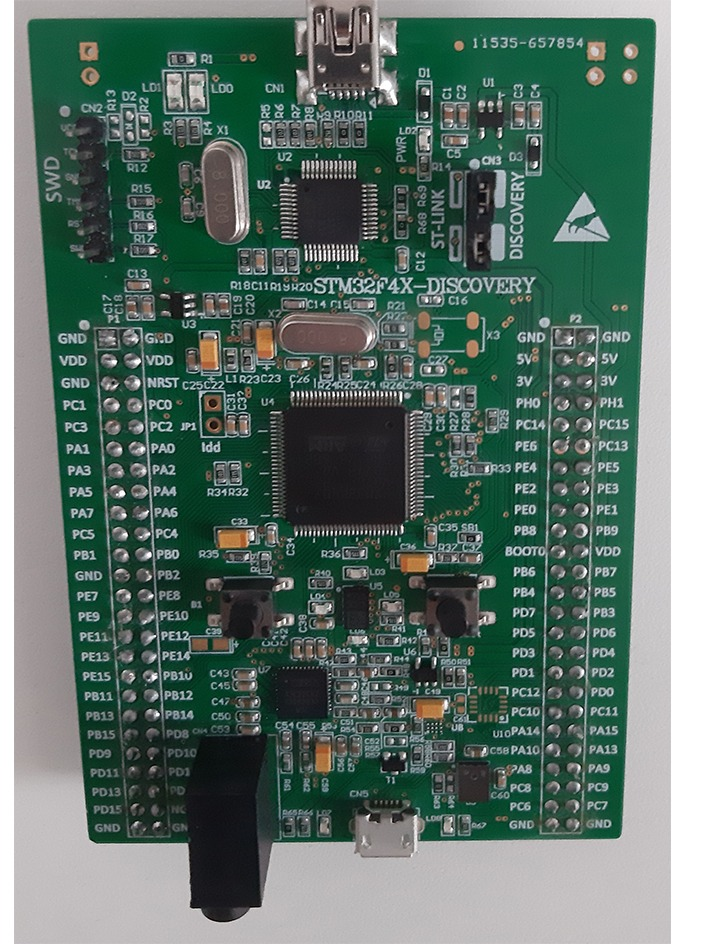STM32F4-DISC: (8, 6, 638, 943)
